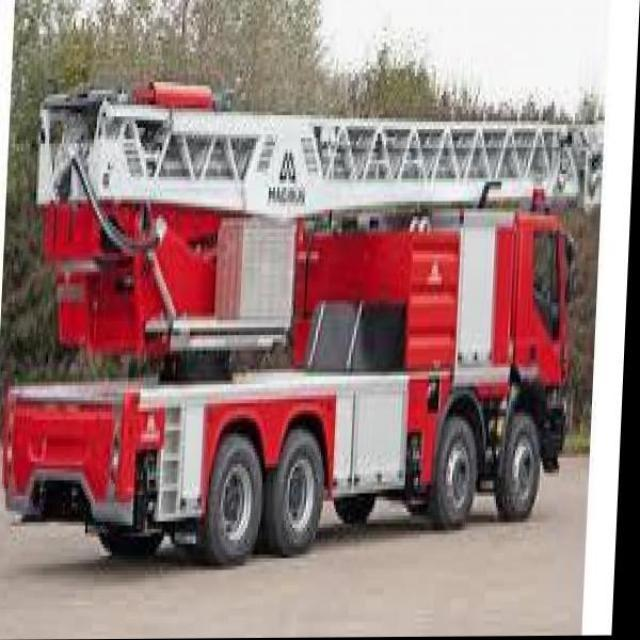emergency: (2, 199, 574, 565)
